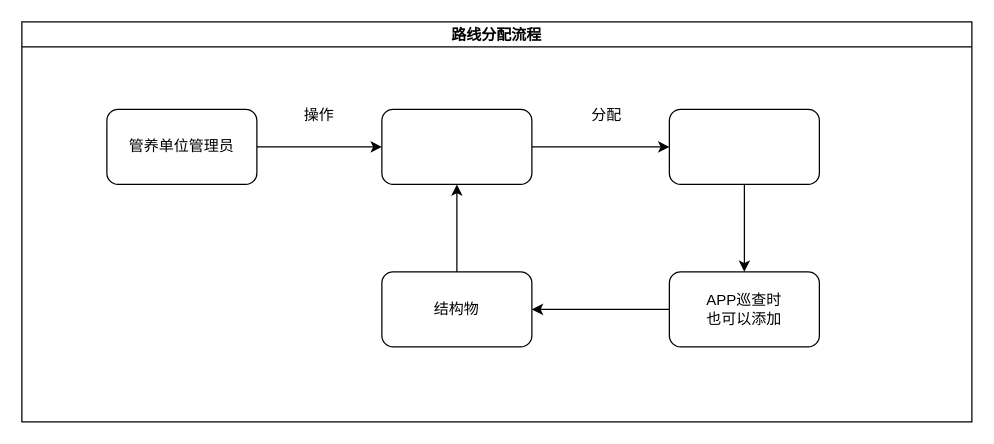
Some shapes in this 994 by 444 pixel diagram are drawn without their labels. Here are the shapes that lost their labels. From the top down, the box of each, then its label:
(381, 108, 532, 184): 路段信息
(668, 108, 819, 184): 巡查人员
